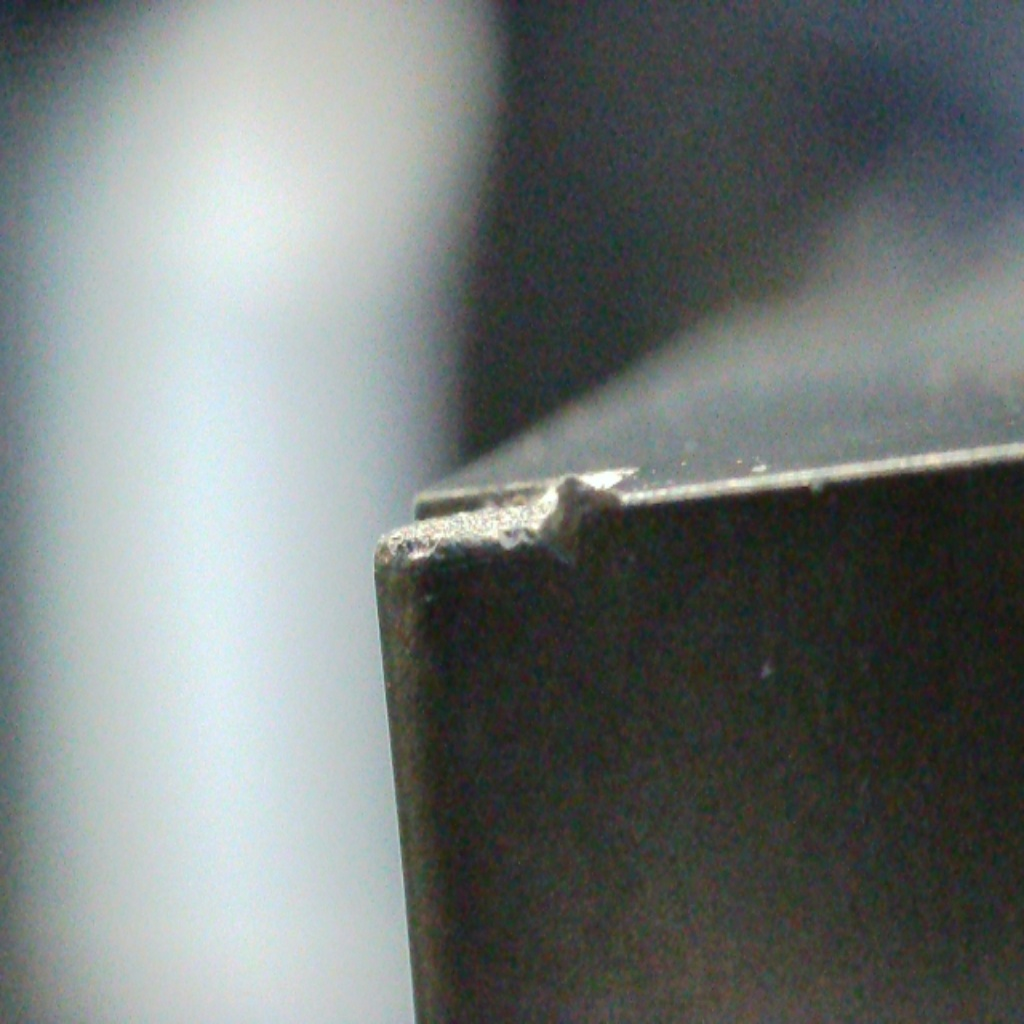flank_wear: (539, 471, 621, 563)
